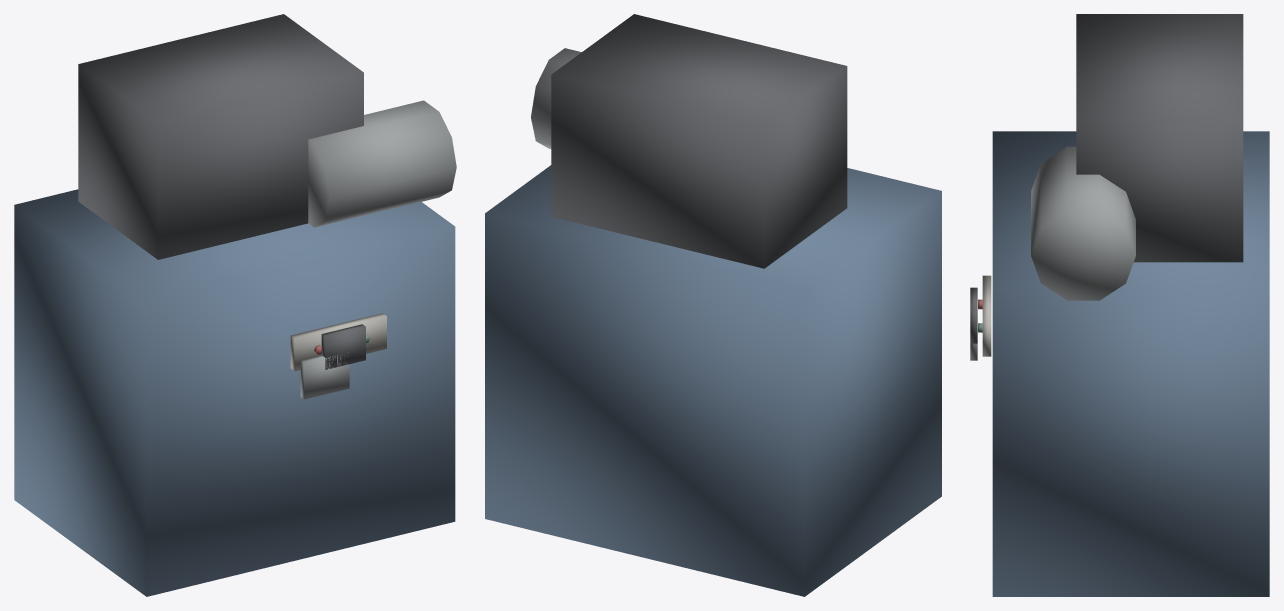
File: rolling_tool_chest__weathered.glb
The picture shows the model from 3 angles, left to right: view 1: azimuth 30°, elevation 25°; view 2: azimuth 150°, elevation 25°; view 3: azimuth 270°, elevation 25°; orthographic projection. The views are drawn at different scales.
Parts seen in each view (by area): view 1: world; view 2: world; view 3: world.
Part boxes in pixels (x1=…): world: x1=14, y1=14, x2=456, y2=596; world: x1=485, y1=14, x2=941, y2=596; world: x1=970, y1=14, x2=1269, y2=596.
Bounding box in the file's own units: 0.83 × 1.04 × 0.6272.
